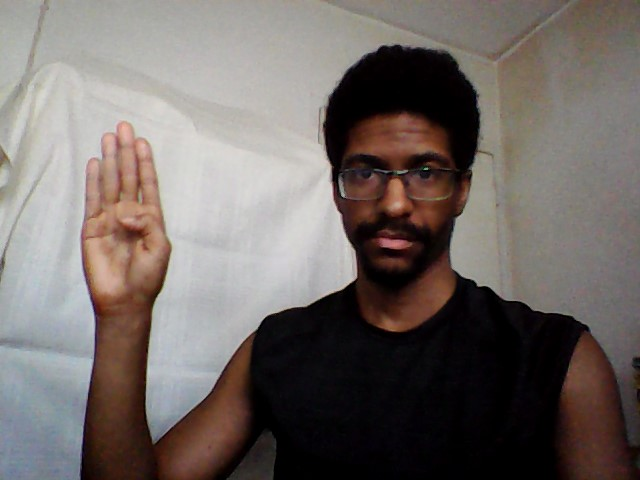b: (76, 114, 177, 320)
